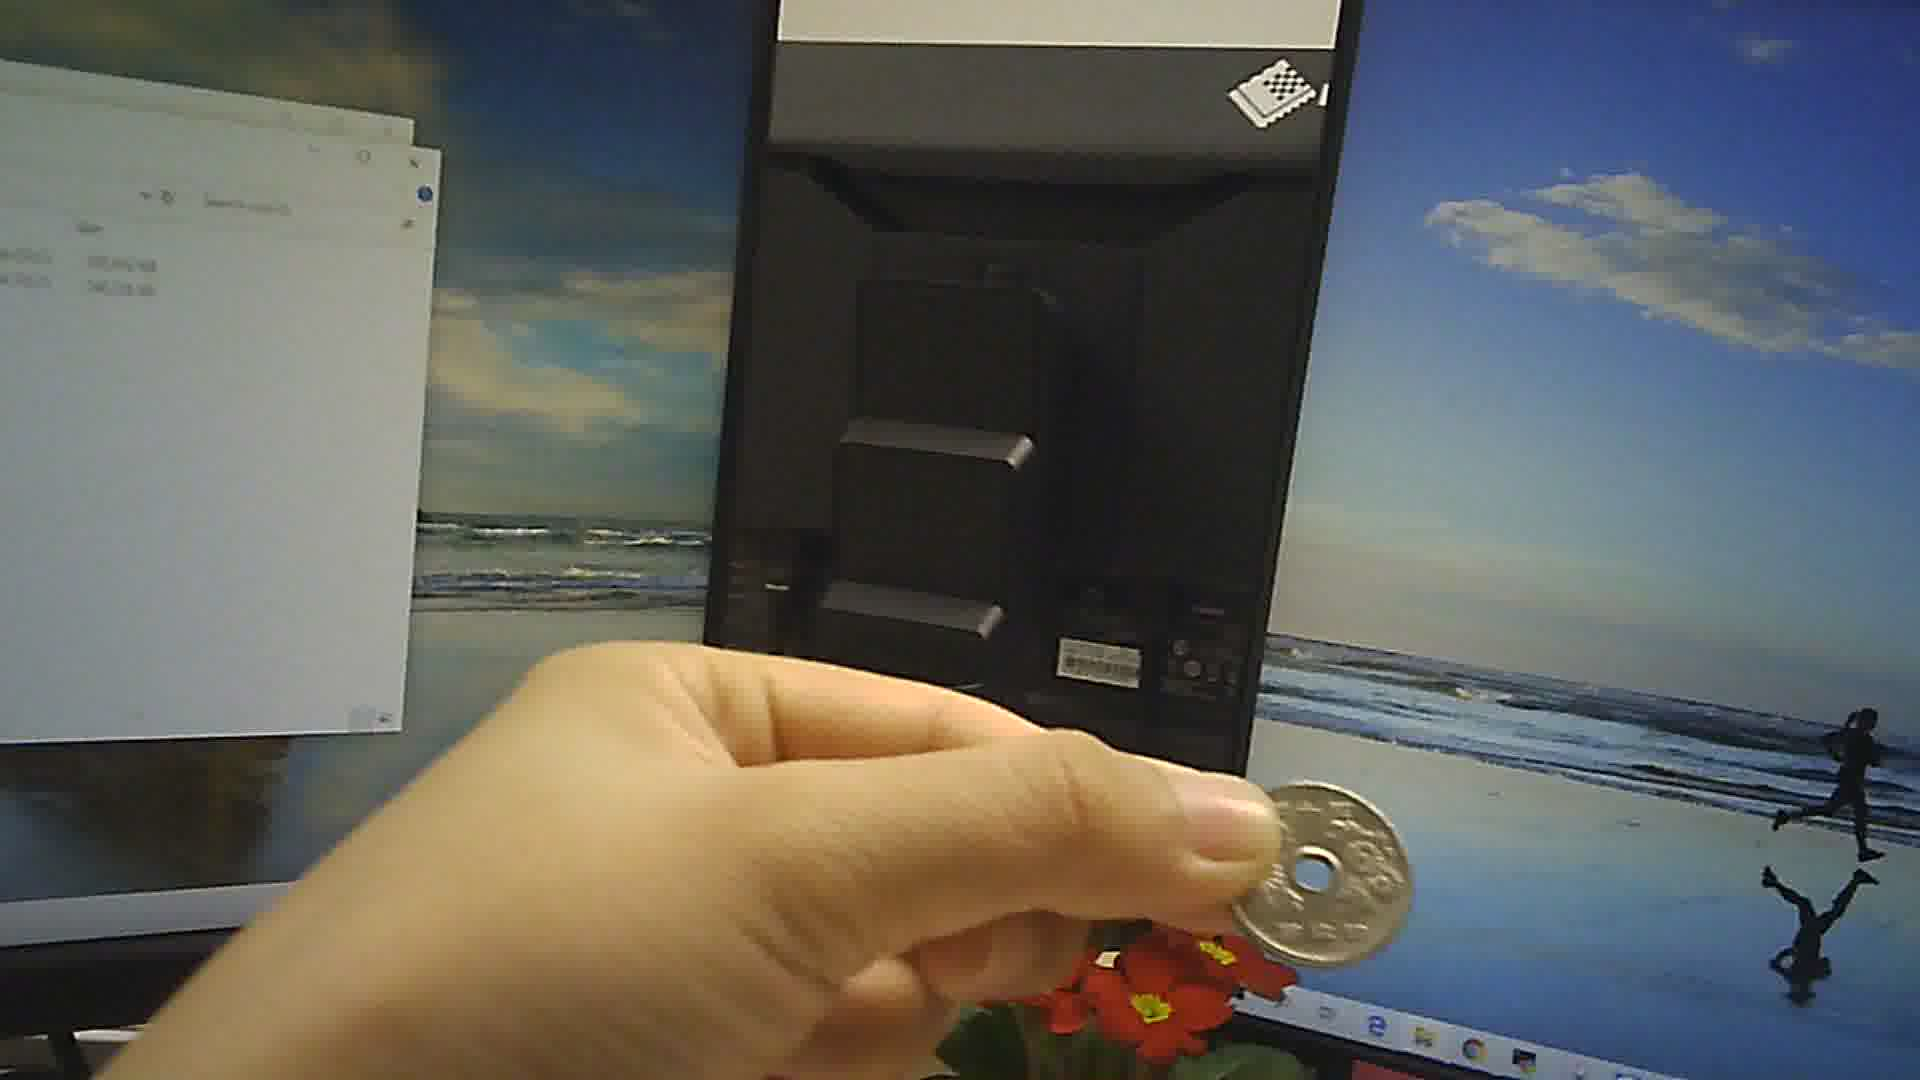50 Yen: (1218, 779, 1415, 967)
